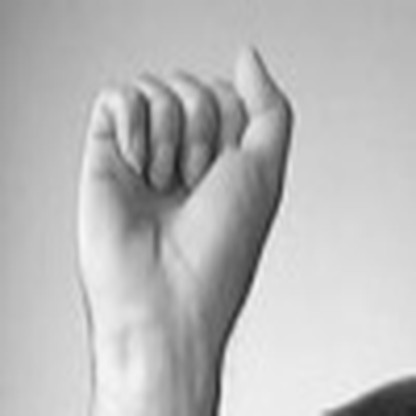a: (52, 27, 305, 306)
